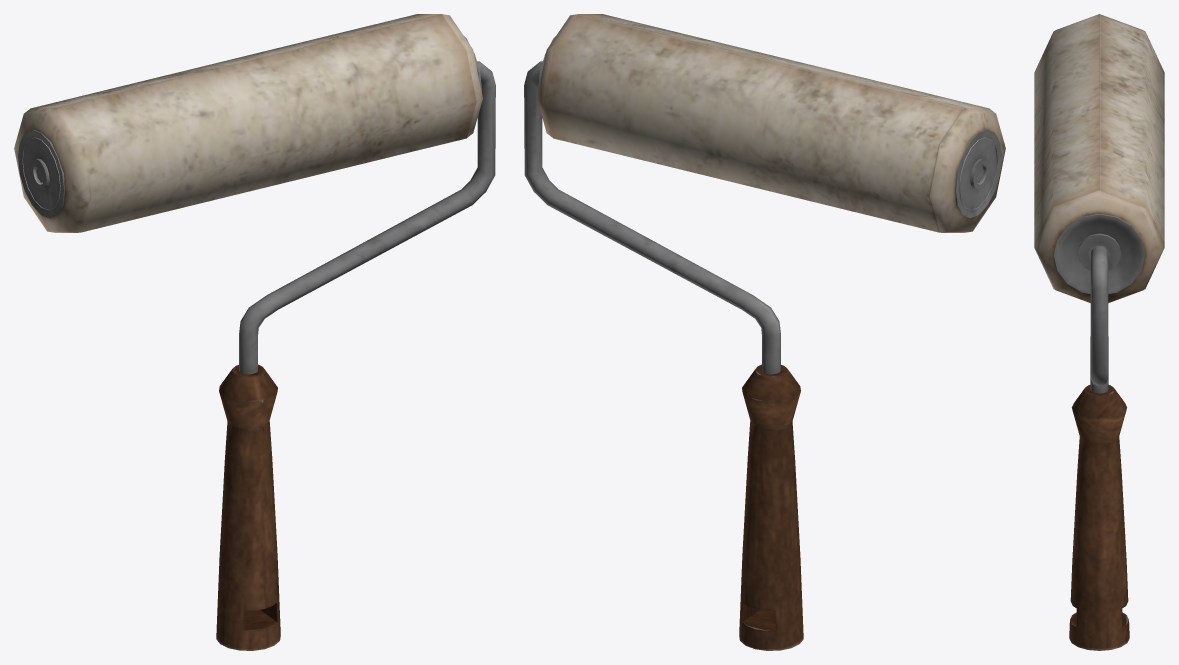
Rendered from roller.fbx.
3 views of the same model, side by side, from view 1: azimuth 30°, elevation 25°; view 2: azimuth 150°, elevation 25°; view 3: azimuth 270°, elevation 25° (orthographic). The views are drawn at different scales.
Visible parts, largest first — view 1: Merged_Cylinder.001, Merged_Cylinder.002; view 2: Merged_Cylinder.001, Merged_Cylinder.002; view 3: Merged_Cylinder.001, Merged_Cylinder.002.
Boxes of the visible parts, x1,y1,x2,y2 form: Merged_Cylinder.001: [14, 14, 482, 232]; Merged_Cylinder.002: [36, 61, 495, 650]; Merged_Cylinder.001: [537, 14, 1005, 232]; Merged_Cylinder.002: [524, 61, 983, 650]; Merged_Cylinder.001: [1034, 14, 1164, 302]; Merged_Cylinder.002: [1069, 233, 1129, 650].
Size of the model in its own units: 0.4144 by 0.5 by 0.1102.
Materials: 1 (1 with a texture image).
